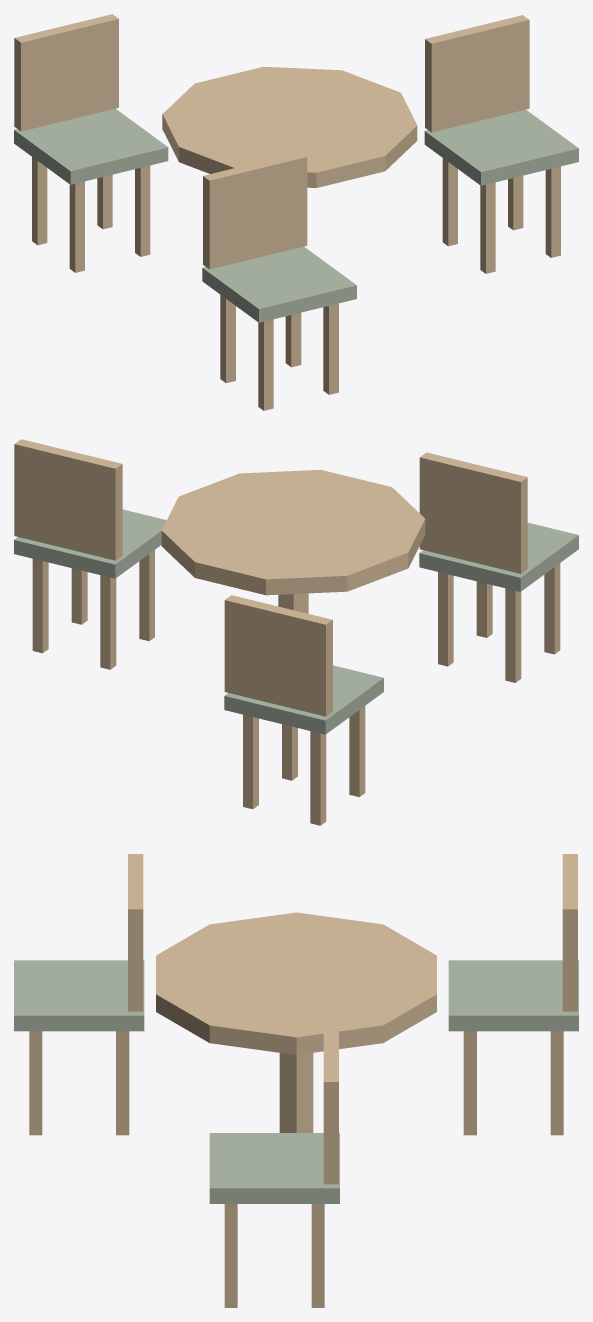
Rendered from outdoor-set.glb.
The picture shows the model from 3 angles, top to bottom: view 1: azimuth 30°, elevation 25°; view 2: azimuth 150°, elevation 25°; view 3: azimuth 270°, elevation 25°; orthographic projection. The views are drawn at different scales.
Parts seen in each view (by area): view 1: root; view 2: root; view 3: root.
Boxes of the visible parts, bbox=[...] form: root: bbox=[14, 14, 578, 410]; root: bbox=[14, 439, 578, 825]; root: bbox=[14, 854, 578, 1307].
Bounding box in the file's own units: 1.24 × 0.59 × 1.3.
